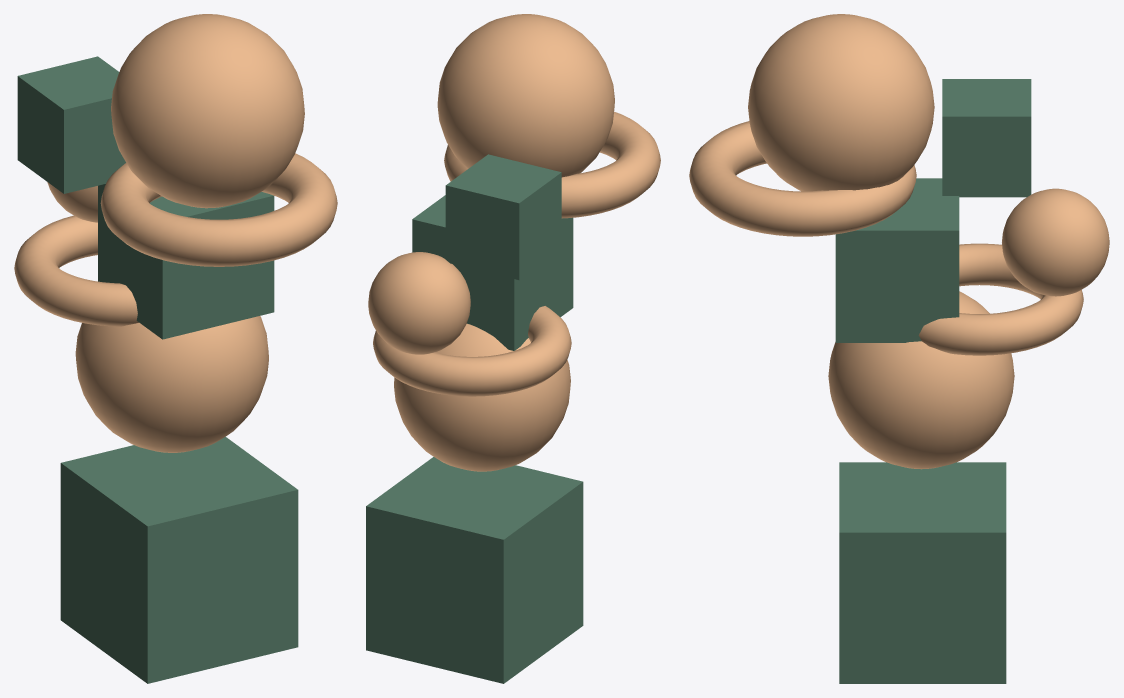
The model's file is skulptura.glb.
3 renders of one model, left to right at view 1: azimuth 30°, elevation 25°; view 2: azimuth 150°, elevation 25°; view 3: azimuth 270°, elevation 25°, orthographic. The views are drawn at different scales.
Parts seen in each view (by area): view 1: Cube; view 2: Cube; view 3: Cube.
Boxes of the visible parts, x1,y1,x2,y2 form: Cube: [14, 14, 337, 683]; Cube: [366, 14, 660, 683]; Cube: [689, 14, 1109, 683].
Bounding box in the file's own units: 5.11 × 15.35 × 9.44.
